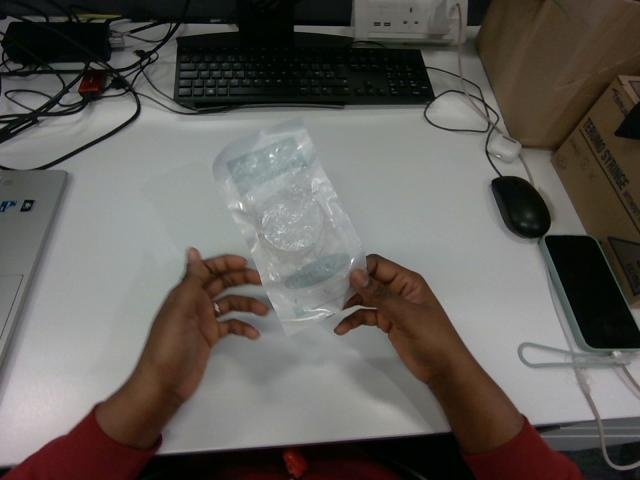gallipot: (213, 120, 366, 334)
